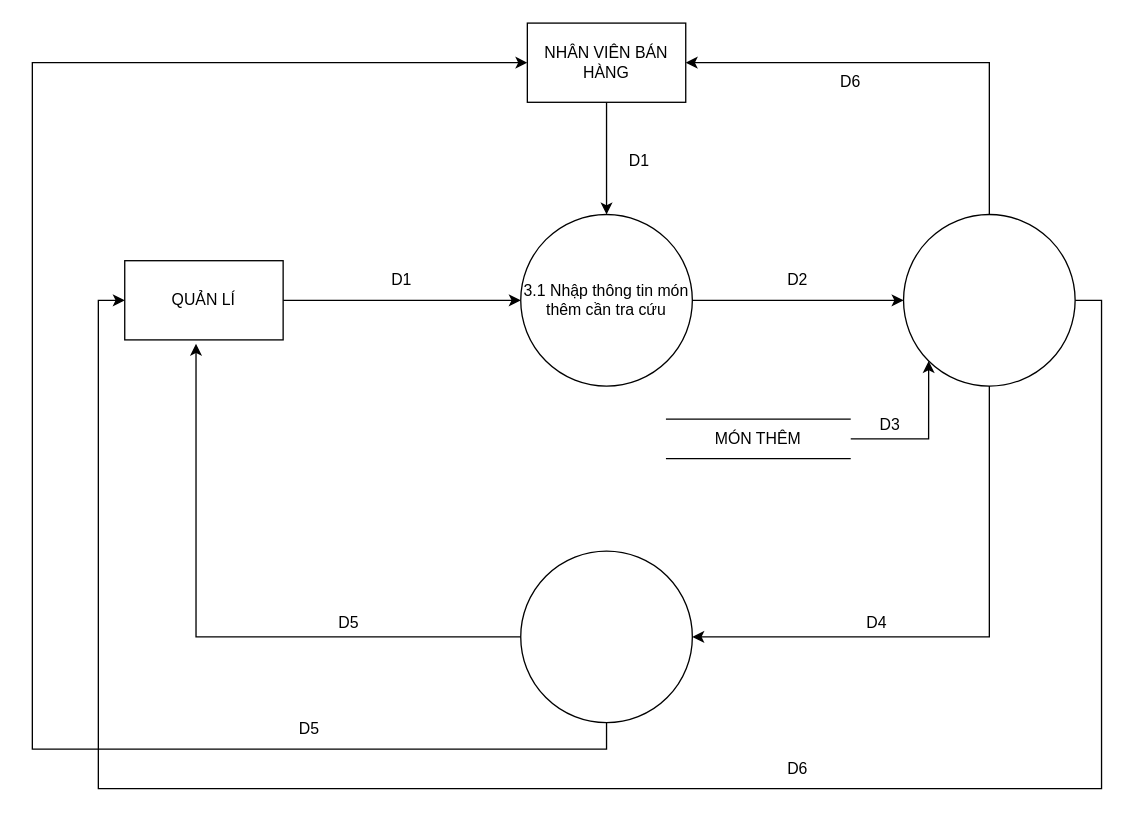
Image size: 1135x822. Some labels were removed from this diagram. Here are the shapes that lost their labels. From the top down, the box of each, then its label:
(902, 213, 1075, 386): 3.2 Xử lý tra cứu món thêm
(519, 550, 692, 723): 3.3 Hiển thị danh sách món thêm
